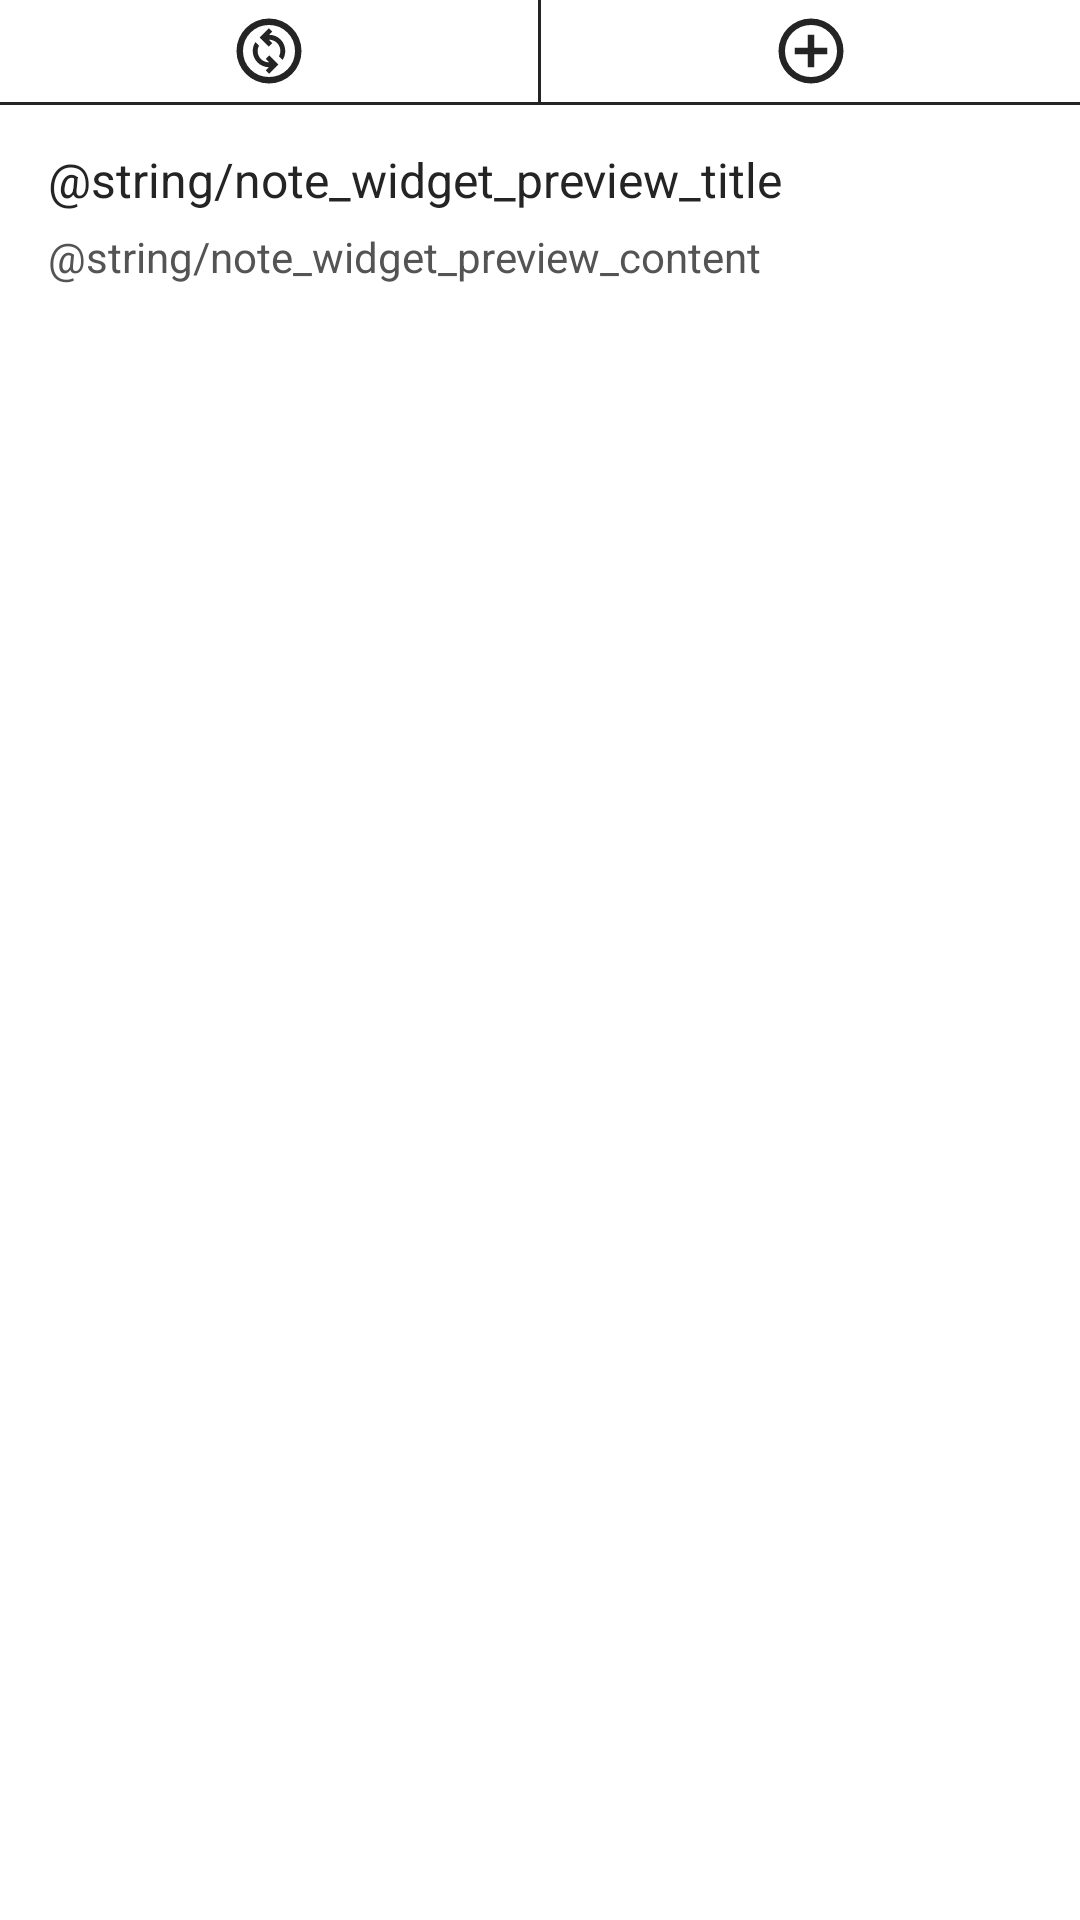

Icons on this 1080×1920 Android screen, each with its box as (x1, y1, x2, y2):
add circle: (778, 18, 844, 84)
change circle: (236, 18, 302, 84)
